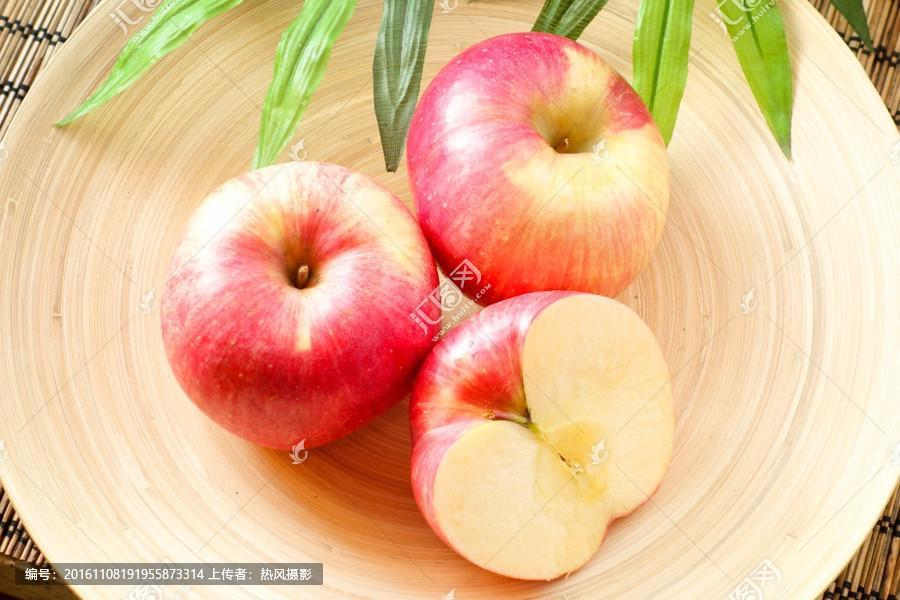apple: (159, 164, 446, 456), (399, 33, 671, 313)
